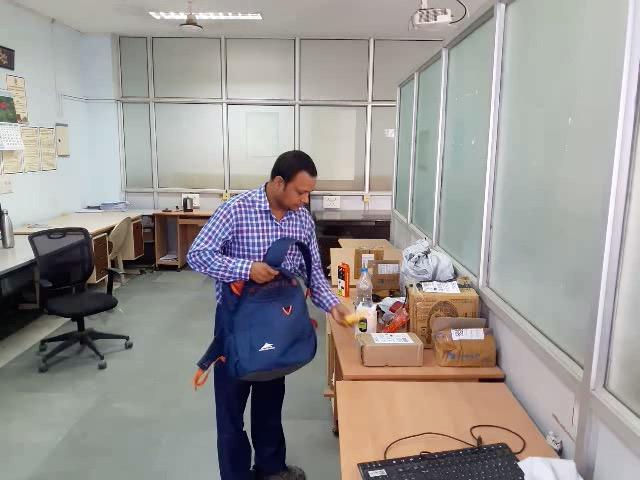shoplifting: (175, 229, 370, 385)
